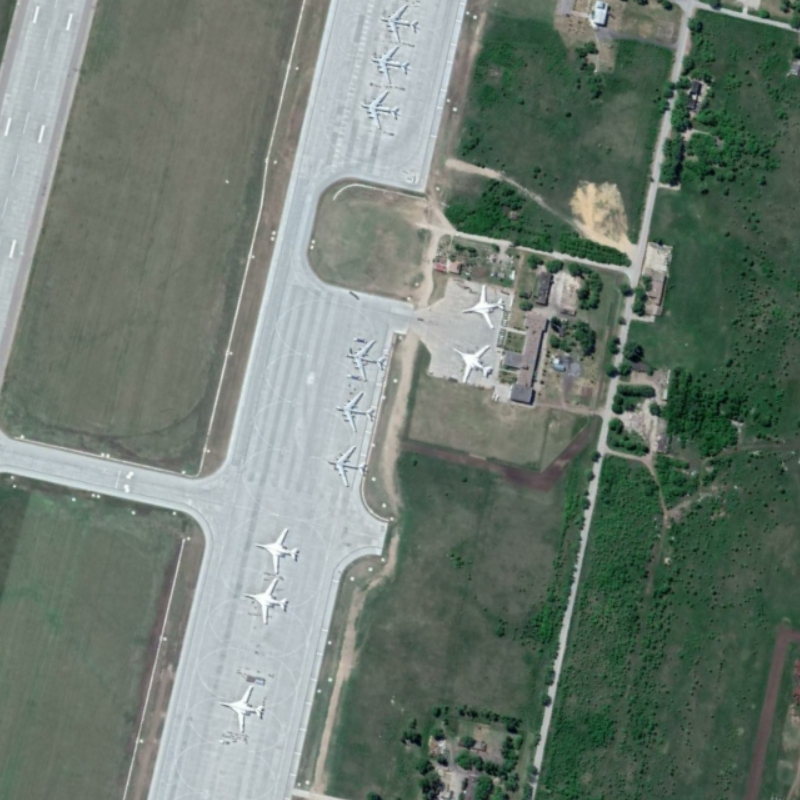A17: (343, 338, 389, 383), (356, 89, 403, 132), (334, 389, 378, 434), (325, 444, 369, 489), (379, 3, 421, 45), (370, 45, 412, 86)
A6: (215, 682, 267, 735), (241, 576, 291, 626), (252, 526, 300, 576), (460, 283, 507, 332), (448, 342, 495, 386)
